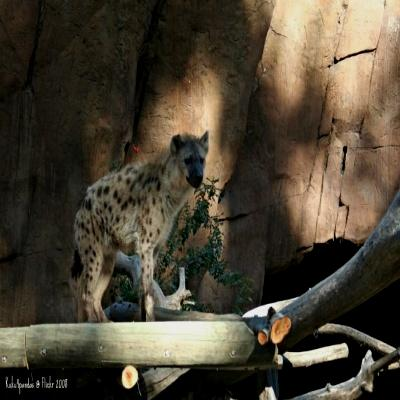hyenas: (59, 120, 254, 342)
